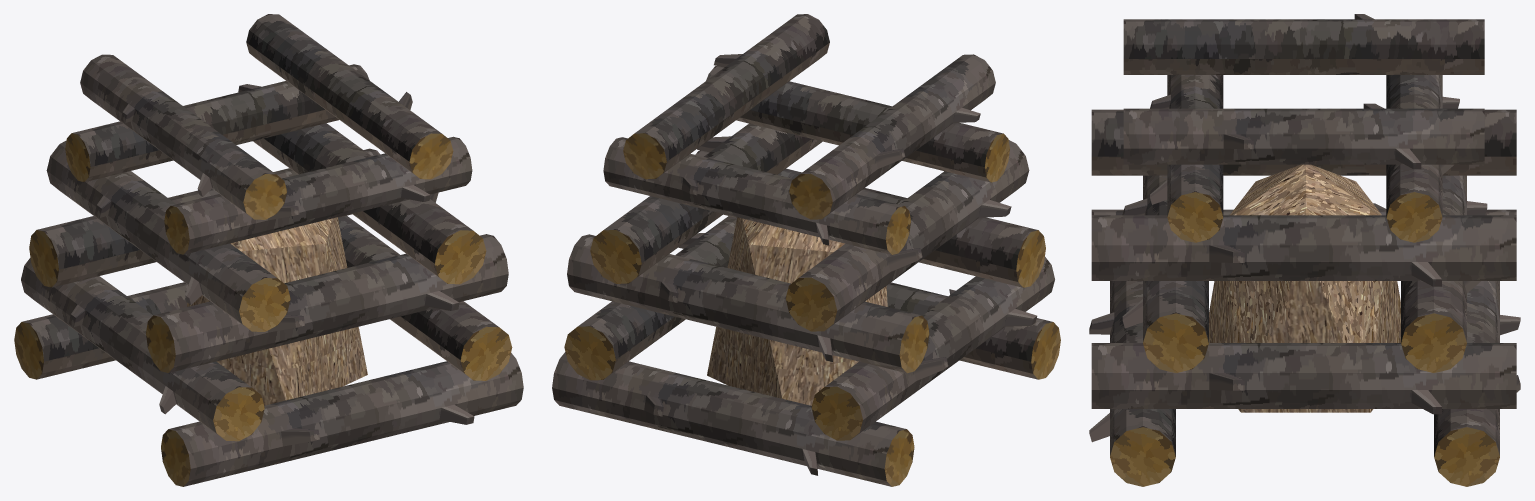
File: CampFire.fbx
The picture shows the model from 3 angles, left to right: view 1: azimuth 30°, elevation 25°; view 2: azimuth 150°, elevation 25°; view 3: azimuth 270°, elevation 25°; orthographic projection. The views are drawn at different scales.
Parts seen in each view (by area): view 1: Cylinder, Cylinder.007, Cylinder.005, Cylinder.008, Cylinder.002, Cylinder.011, Cylinder.010, Icosphere, Cylinder.009, Cylinder.004, Cylinder.003, Cylinder.006 (+1 smaller); view 2: Cylinder.001, Cylinder.006, Cylinder.005, Cylinder.009, Cylinder.002, Cylinder.011, Cylinder.010, Icosphere, Cylinder.004, Cylinder.008, Cylinder.003, Cylinder.007 (+1 smaller); view 3: Cylinder.004, Cylinder.003, Cylinder.011, Cylinder.010, Icosphere, Cylinder, Cylinder.007, Cylinder.001, Cylinder.005, Cylinder.006, Cylinder.008, Cylinder.009 (+1 smaller).
Part boxes in pixels (bbox=[...]): Cylinder: bbox=[161, 353, 523, 486]; Cylinder.007: bbox=[146, 234, 508, 372]; Cylinder.005: bbox=[46, 140, 290, 331]; Cylinder.008: bbox=[164, 136, 472, 254]; Cylinder.002: bbox=[21, 258, 264, 441]; Cylinder.011: bbox=[246, 14, 453, 179]; Cylinder.010: bbox=[80, 54, 287, 219]; Icosphere: bbox=[187, 217, 367, 405]; Cylinder.009: bbox=[65, 64, 369, 182]; Cylinder.004: bbox=[253, 123, 486, 284]; Cylinder.003: bbox=[338, 215, 512, 380]; Cylinder.006: bbox=[29, 148, 380, 287]; Cylinder.001: bbox=[552, 352, 914, 486]; Cylinder.006: bbox=[567, 234, 929, 373]; Cylinder.005: bbox=[785, 140, 1029, 331]; Cylinder.009: bbox=[603, 137, 910, 254]; Cylinder.002: bbox=[811, 257, 1054, 440]; Cylinder.011: bbox=[623, 14, 829, 179]; Cylinder.010: bbox=[789, 54, 995, 219]; Icosphere: bbox=[707, 217, 887, 405]; Cylinder.004: bbox=[590, 123, 822, 283]; Cylinder.008: bbox=[706, 66, 1009, 182]; Cylinder.003: bbox=[564, 216, 736, 380]; Cylinder.007: bbox=[695, 150, 1045, 287]; Cylinder.004: bbox=[1091, 215, 1516, 286]; Cylinder.003: bbox=[1091, 343, 1516, 414]; Cylinder.011: bbox=[1123, 108, 1484, 169]; Cylinder.010: bbox=[1123, 14, 1484, 74]; Icosphere: bbox=[1209, 164, 1400, 412]; Cylinder: bbox=[1089, 281, 1175, 486]; Cylinder.007: bbox=[1122, 175, 1208, 372]; Cylinder.001: bbox=[1434, 281, 1520, 486]; Cylinder.005: bbox=[1091, 103, 1516, 175]; Cylinder.006: bbox=[1401, 175, 1487, 372]; Cylinder.008: bbox=[1150, 75, 1223, 242]; Cylinder.009: bbox=[1386, 75, 1459, 242].
Size of the model in its own units: 1295 by 1099 by 1306.
13 materials, 13 textured.
